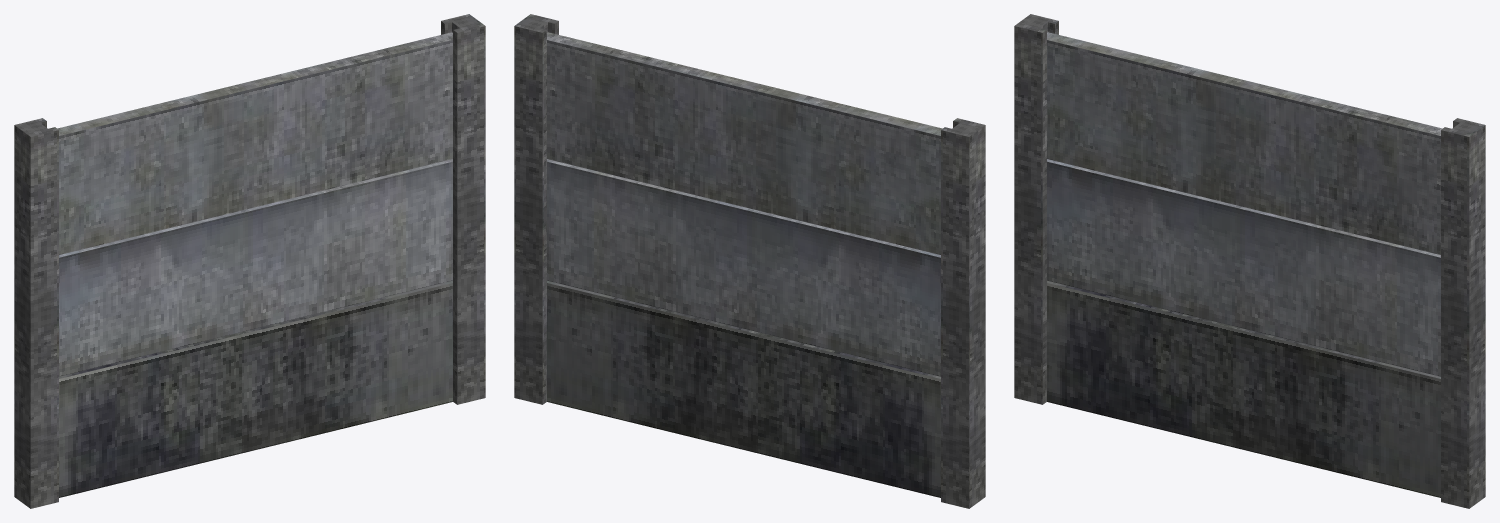
The model's file is lf_plackard_closed_full.glb.
The picture shows the model from 3 angles, left to right: view 1: azimuth 30°, elevation 25°; view 2: azimuth 150°, elevation 25°; view 3: azimuth 330°, elevation 25°; orthographic projection.
Visible parts, largest first — view 1: plackard_closed_full; view 2: plackard_closed_full; view 3: plackard_closed_full.
Boxes of the visible parts, x1,y1,x2,y2 form: plackard_closed_full: [14, 14, 485, 508]; plackard_closed_full: [514, 14, 985, 508]; plackard_closed_full: [1014, 14, 1485, 508].
Size of the model in its own units: 3.2 by 2.5 by 0.2.
Materials: 1 (1 with a texture image).
